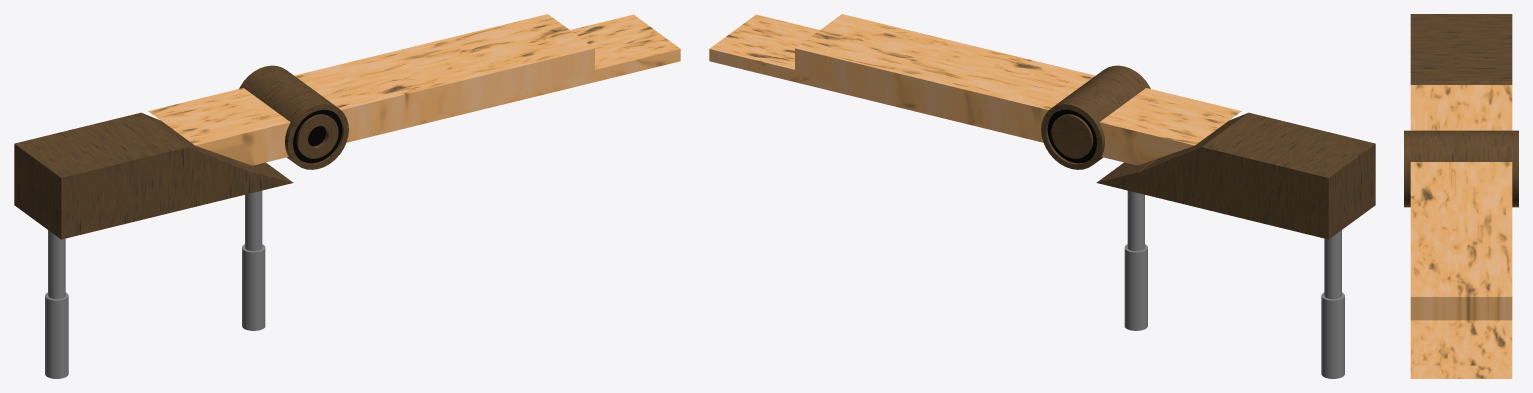
Rendered from level2.fbx.
3 renders of one model, left to right at view 1: azimuth 30°, elevation 25°; view 2: azimuth 150°, elevation 25°; view 3: azimuth 270°, elevation 25°, orthographic. The views are drawn at different scales.
Visible parts, largest first — view 1: SecondFloor, Elevator, Interactable, Piston.001, Piston; view 2: SecondFloor, Elevator, Interactable, Piston.001, Piston; view 3: SecondFloor, Elevator, Interactable.
Part boxes in pixels (x1,y1,x2,y2): SecondFloor: (148,14,680,165); Elevator: (14,112,293,239); Interactable: (239,65,348,169); Piston.001: (45,230,68,378); Piston: (242,190,265,330); SecondFloor: (709,14,1241,165); Elevator: (1096,112,1375,239); Interactable: (1041,65,1150,169); Piston.001: (1321,230,1344,378); Piston: (1124,190,1147,330); SecondFloor: (1410,85,1512,378); Elevator: (1410,14,1512,84); Interactable: (1404,130,1518,207).
Size of the model in its own units: 3042 by 1083 by 450.
